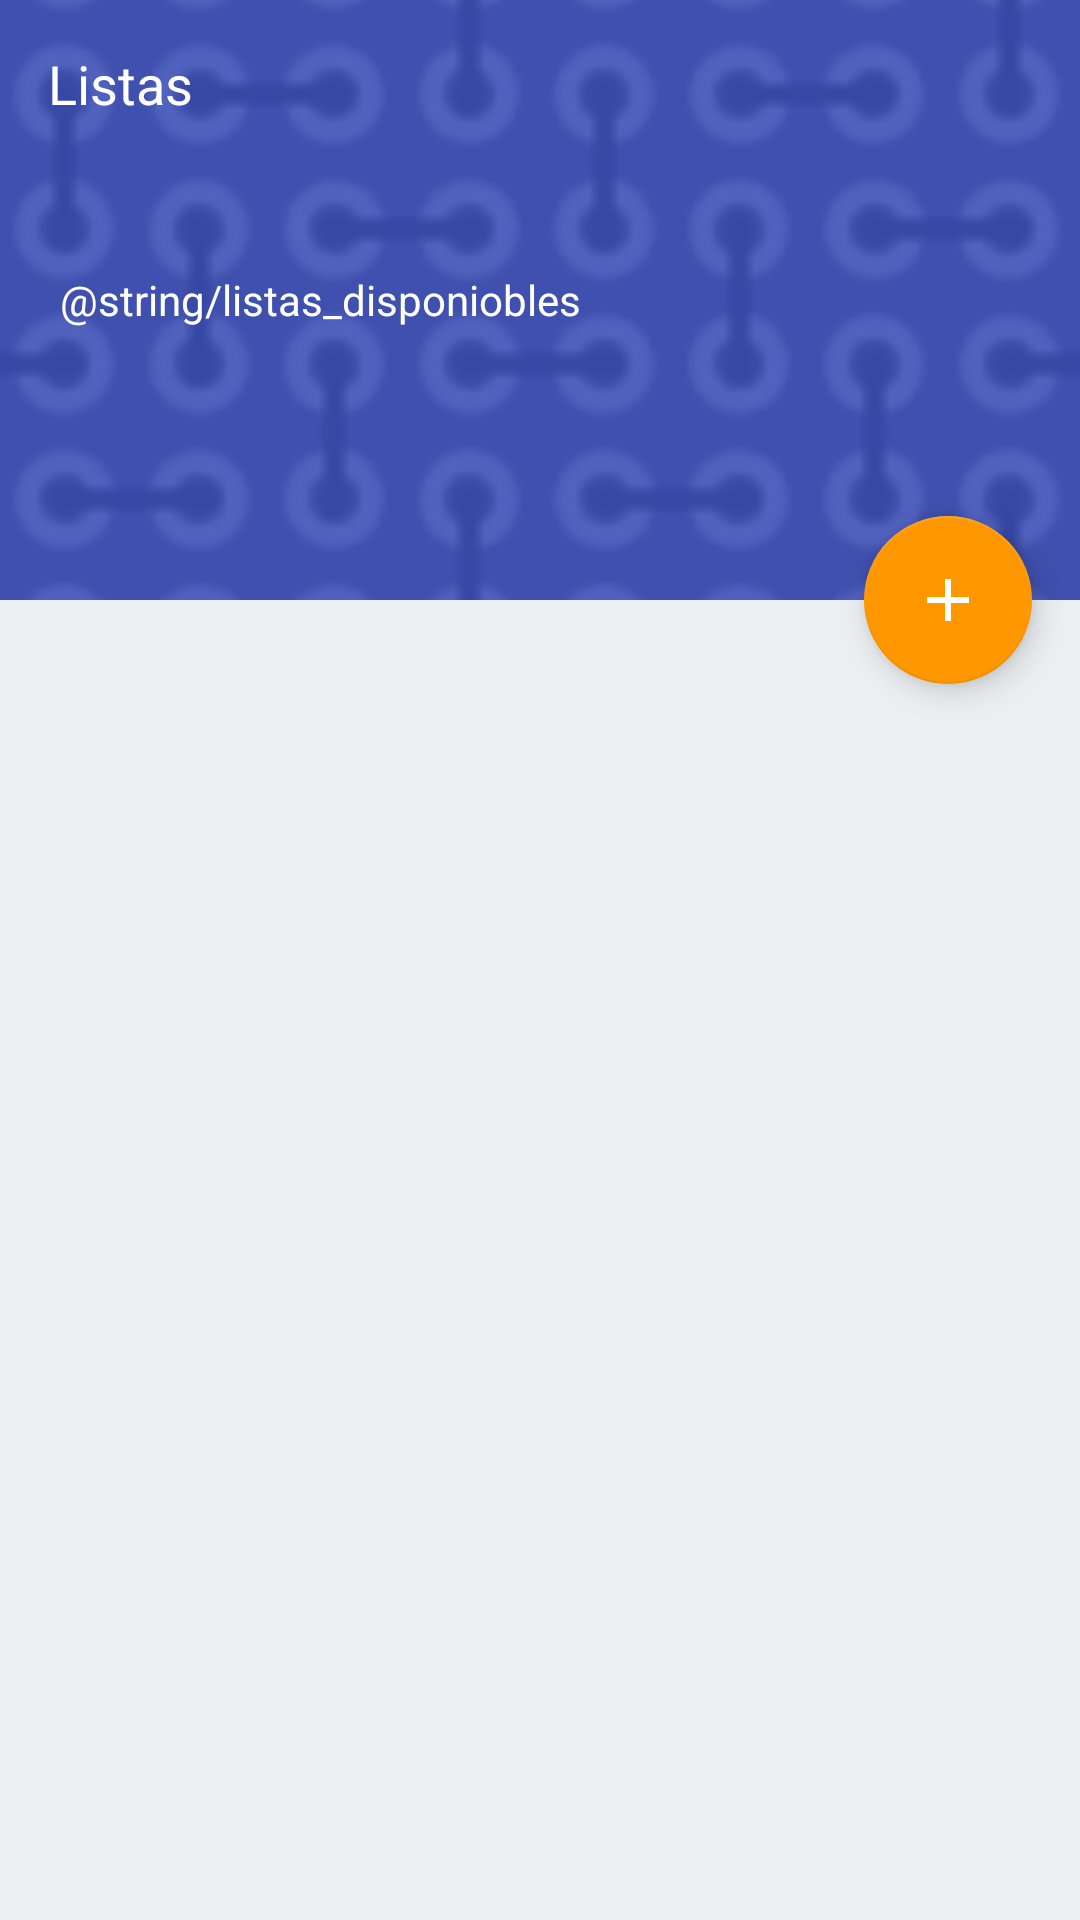

Icons on this 1080x1920 Android screen, each with the point to tap as (x=x, y=y):
fab plus: (x=948, y=600)
